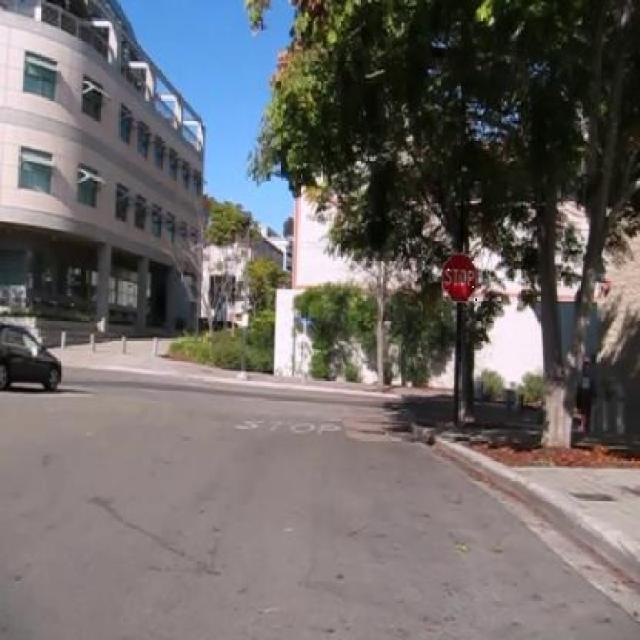stop: (443, 252, 480, 302)
